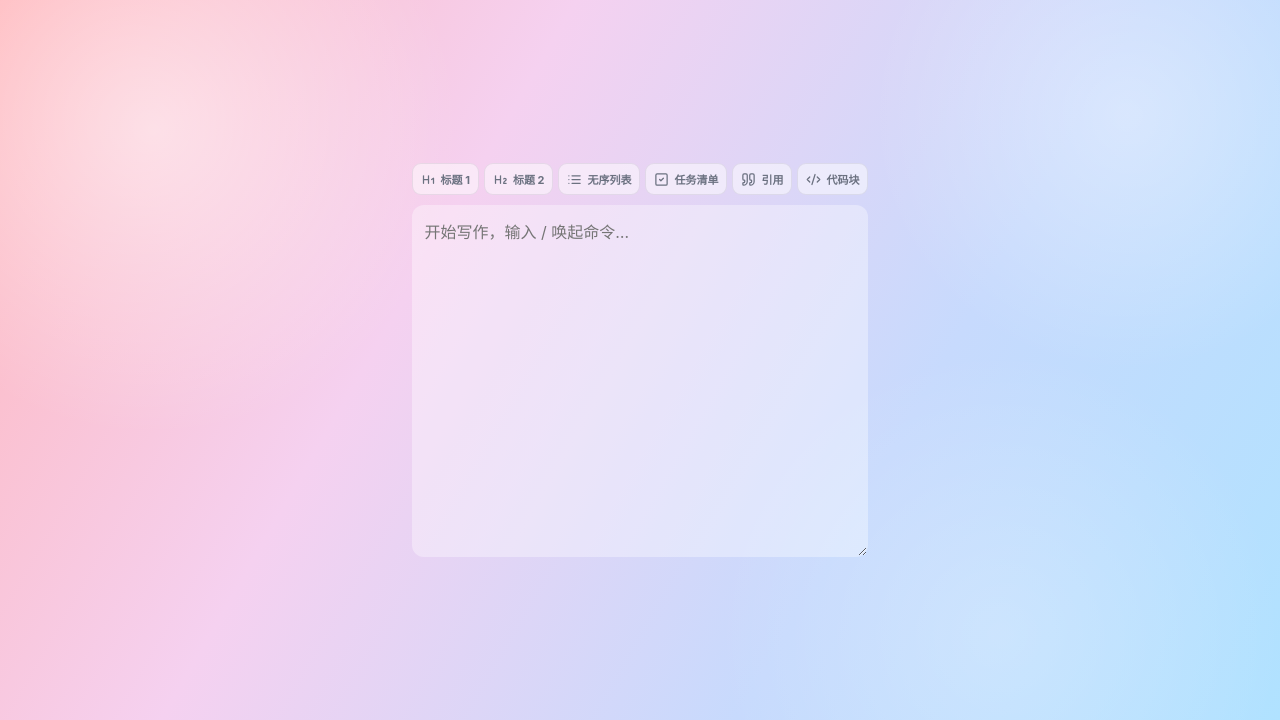
it: NoteEditorSurface › inserts markdown blocks from the editor toolbar at the caret
Click the button "标题 1".
click(445, 179)  # box [412,163,479,195]
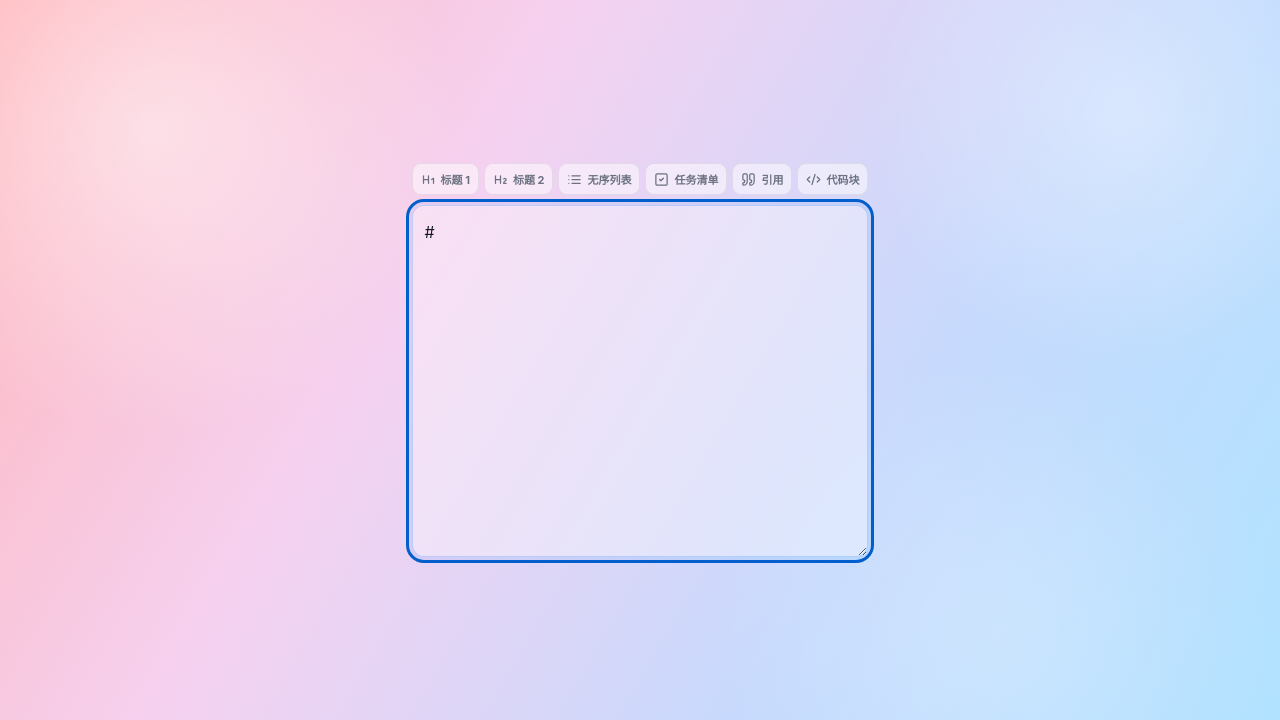
Result: the text box named "笔记内容" holds "# " at [412,205,868,557]
Click the button "任务清单".
click(686, 179)  # box [646,163,728,195]
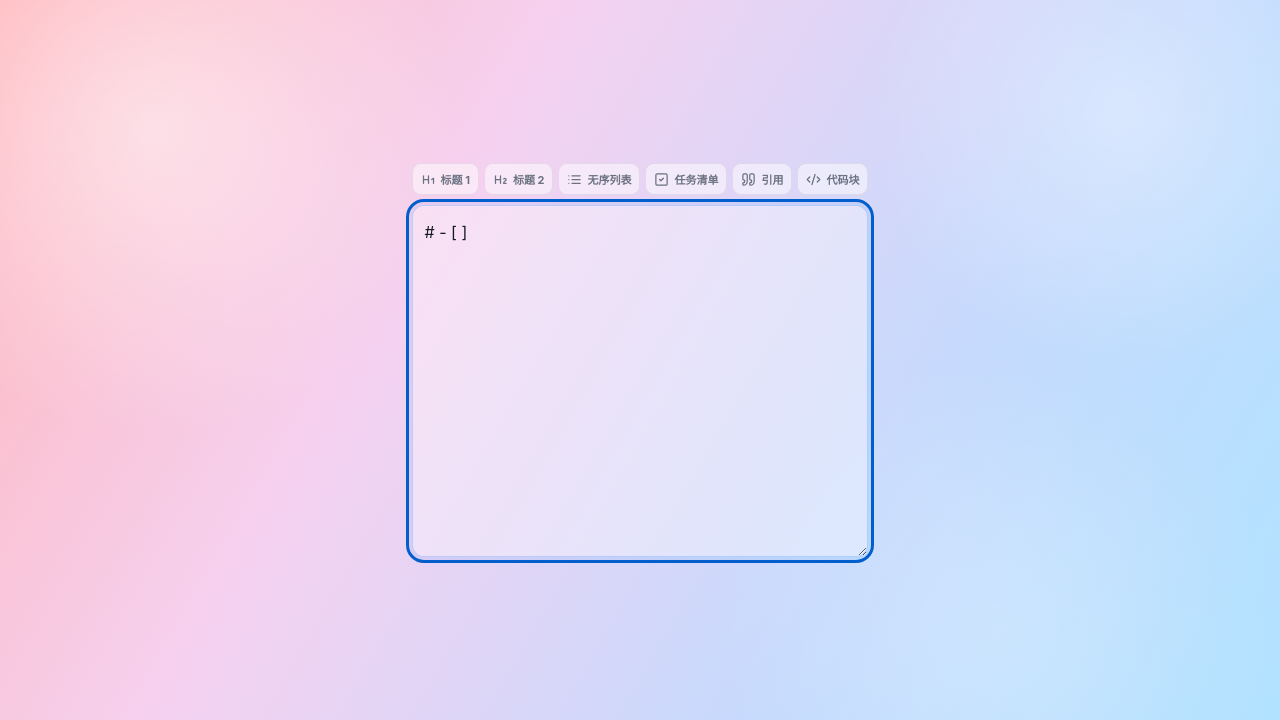
Result: the text box named "笔记内容" holds "# - [ ] " at [412,205,868,557]
